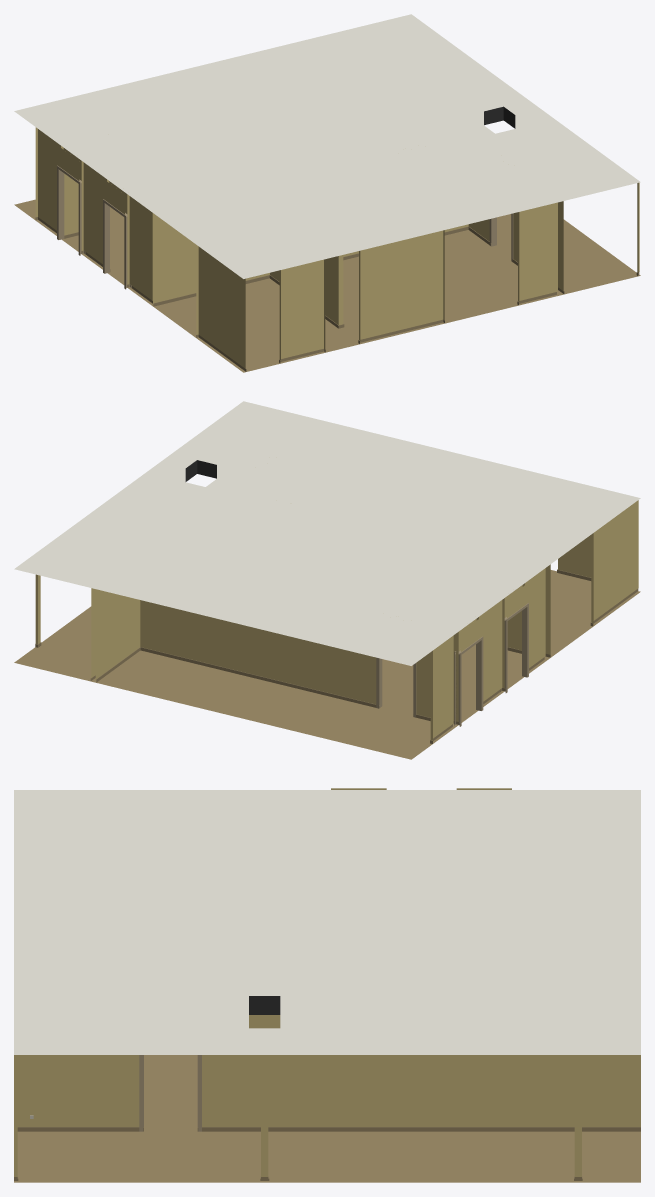
The model's file is chunk_2_1.glb.
3 renders of one model, top to bottom at view 1: azimuth 30°, elevation 25°; view 2: azimuth 150°, elevation 25°; view 3: azimuth 270°, elevation 25°, orthographic. The views are drawn at different scales.
Parts seen in each view (by area): view 1: chunk_2_1; view 2: chunk_2_1; view 3: chunk_2_1.
Boxes of the visible parts, x1=… form: chunk_2_1: x1=14, y1=14, x2=640, y2=372; chunk_2_1: x1=14, y1=401, x2=640, y2=759; chunk_2_1: x1=14, y1=788, x2=640, y2=1182.
Size of the model in its own units: 12.1 by 3.1 by 12.
